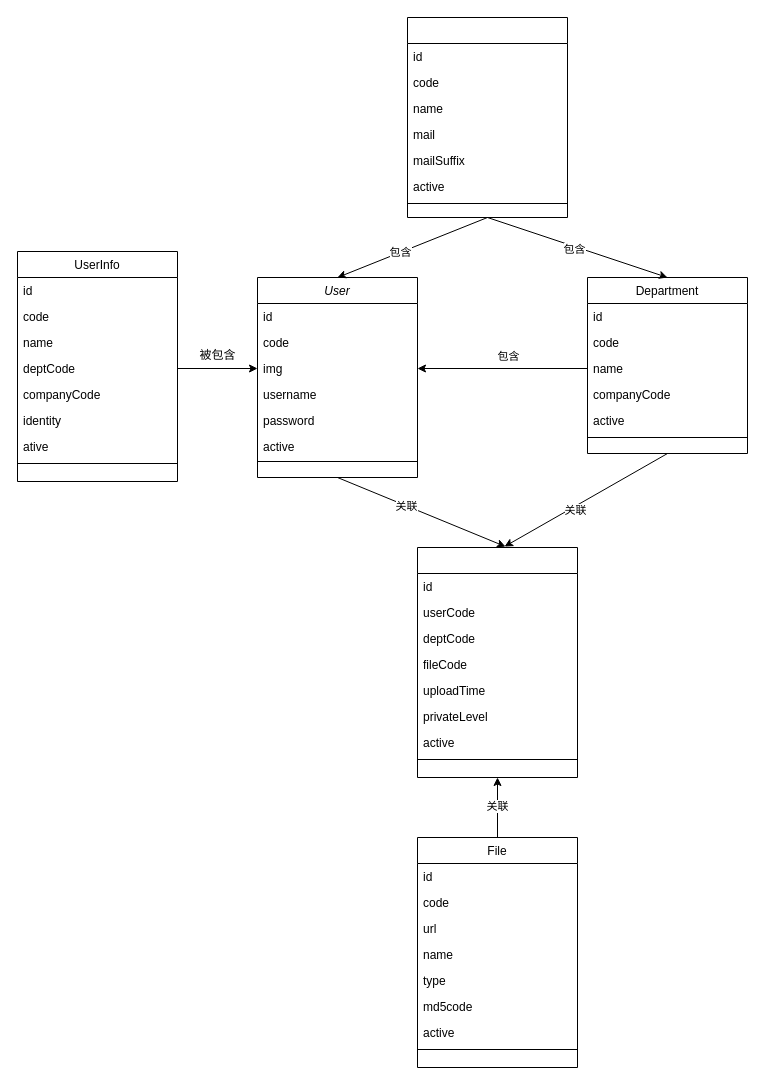
This 765x1085 diagram has some shape labels left out. The shapes that lost their labels are listed below. From the top down, each one's box as (x1, y1, x2, y2) in pixels, then its label:
(406, 16, 568, 218): Company
(416, 546, 578, 778): UploadFile
